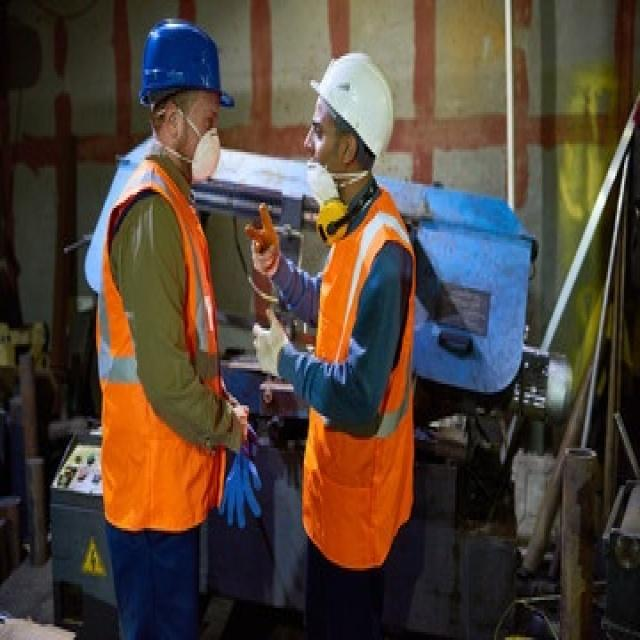helmet: (296, 56, 398, 269), (136, 21, 233, 235)
vest: (93, 227, 232, 640), (295, 285, 434, 640)
